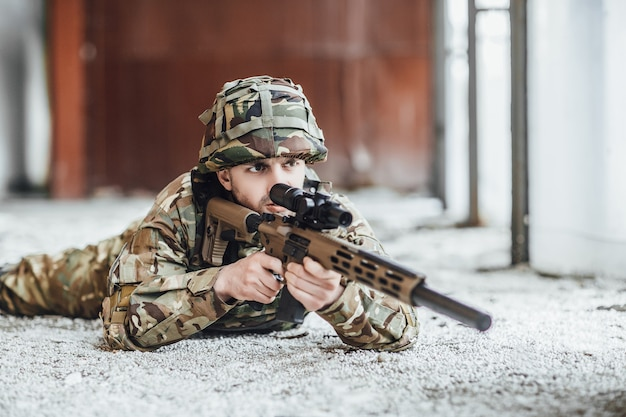gun: (206, 181, 492, 332)
